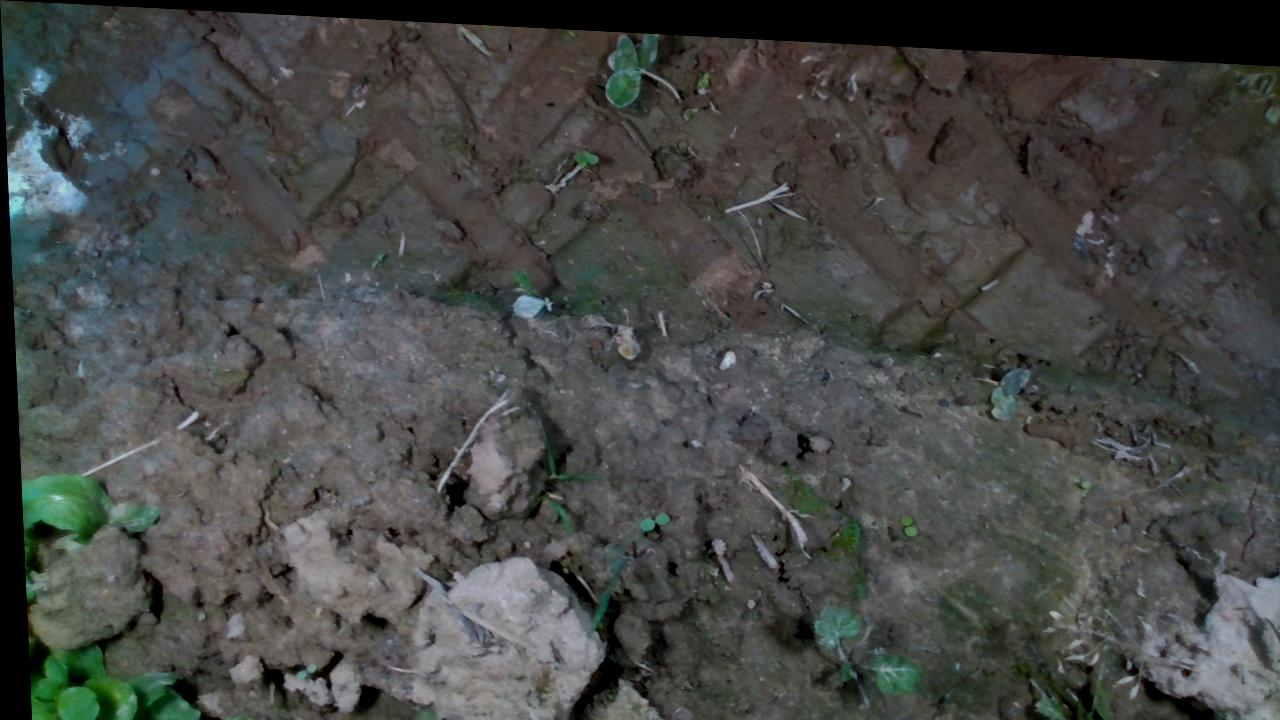weed: (632, 500, 665, 526), (893, 503, 913, 529)
